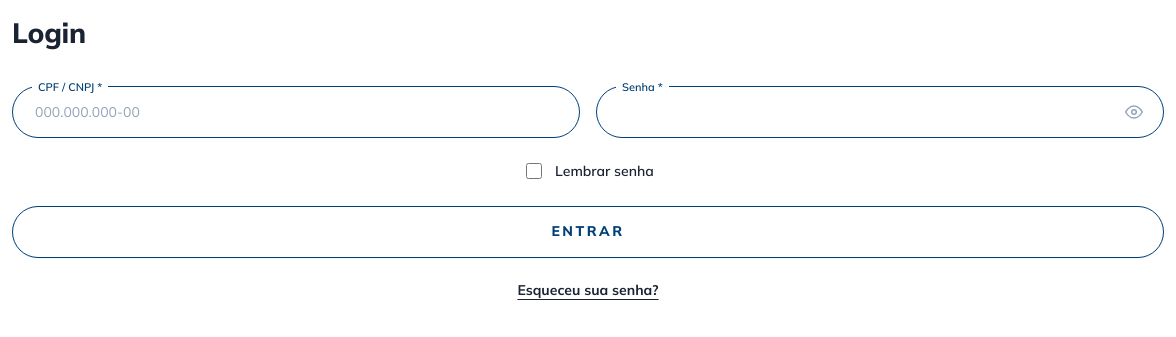
Test case: LoginForm › exibe erros ao submeter form vazio
Click the button "Entrar" at (588, 232), box x1=12 y1=206 x2=1164 y2=258
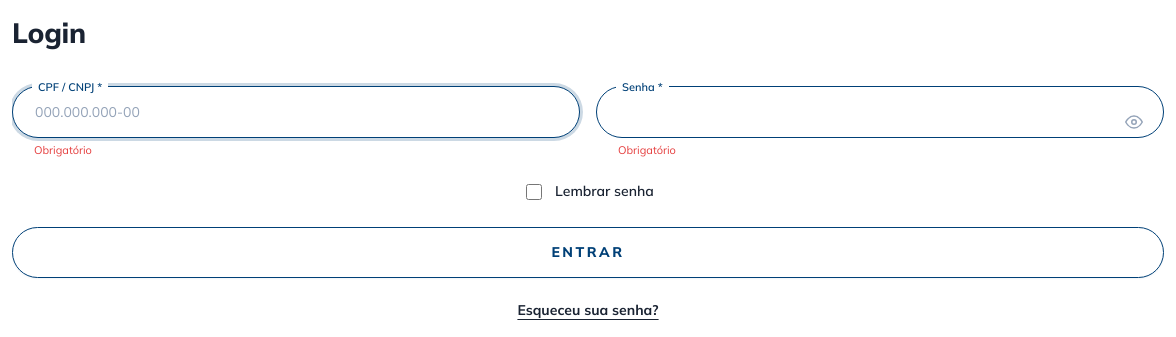
Check: the text "Obrigatório" is shown 2 times, box x1=34 y1=143 x2=92 y2=157; x1=618 y1=143 x2=676 y2=157
